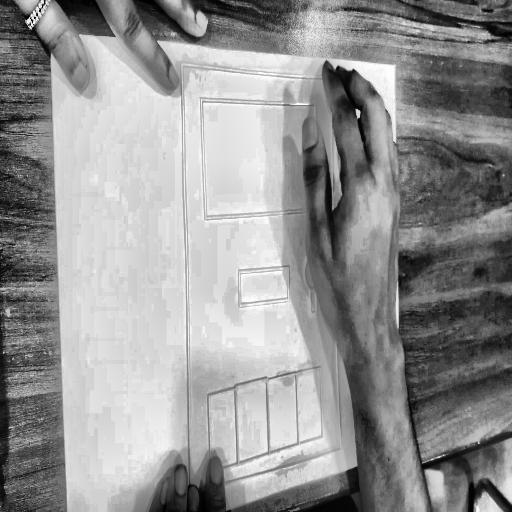door: (175, 52, 350, 504)
top_left: (48, 30, 57, 45)
top_right: (392, 60, 399, 72)
